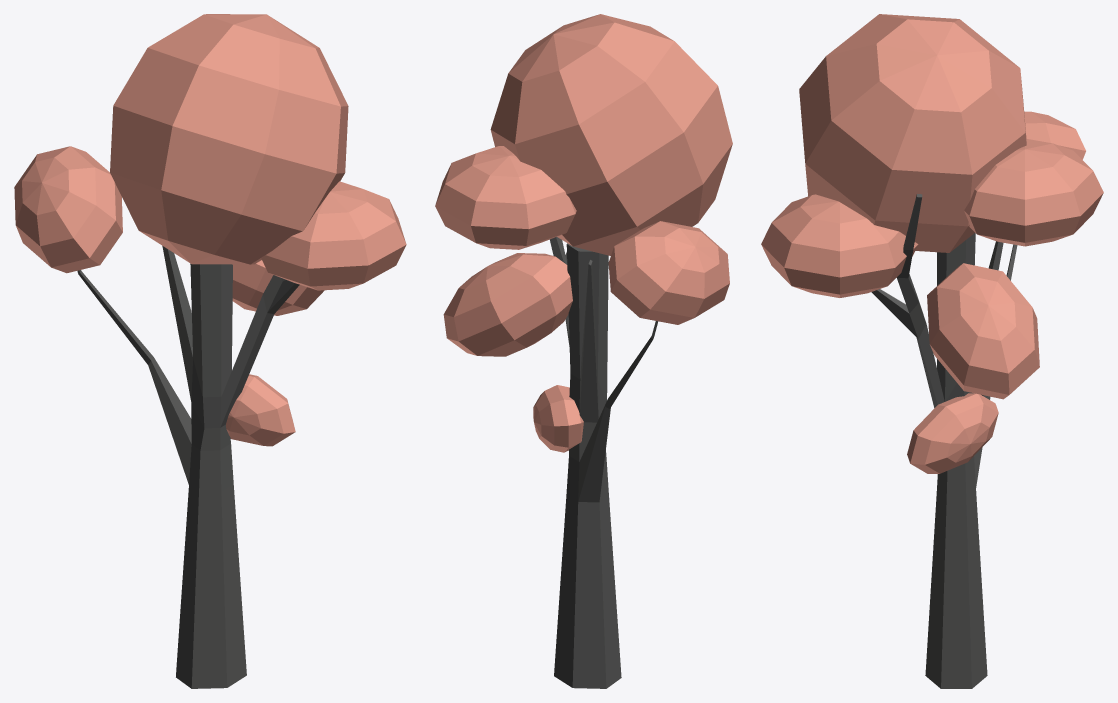
File: Tree3_pink.fbx
3 views of the same model, side by side, from view 1: azimuth 30°, elevation 25°; view 2: azimuth 150°, elevation 25°; view 3: azimuth 270°, elevation 25° (orthographic). The views are drawn at different scales.
Visible parts, largest first — view 1: Sphere, Cylinder.004, Sphere.005, Sphere.001, Sphere.004, Sphere.002; view 2: Sphere, Cylinder.004, Sphere.003, Sphere.002, Sphere.005, Sphere.004; view 3: Sphere, Cylinder.004, Sphere.002, Sphere.001, Sphere.003, Sphere.004, Sphere.005.
Boxes of the visible parts, box(x1,y1,x2,y2) form: Sphere: box(110, 14, 348, 264); Cylinder.004: box(77, 246, 299, 688); Sphere.005: box(14, 146, 122, 273); Sphere.001: box(261, 181, 406, 290); Sphere.004: box(226, 374, 295, 446); Sphere.002: box(232, 260, 324, 315); Sphere: box(490, 14, 732, 255); Cylinder.004: box(549, 237, 658, 688); Sphere.003: box(435, 146, 576, 249); Sphere.002: box(443, 253, 572, 356); Sphere.005: box(608, 221, 729, 324); Sphere.004: box(533, 385, 583, 452); Sphere: box(799, 14, 1026, 252); Cylinder.004: box(871, 194, 1017, 688); Sphere.002: box(927, 263, 1039, 399); Sphere.001: box(761, 194, 918, 297); Sphere.003: box(964, 138, 1103, 246); Sphere.004: box(907, 393, 998, 473); Sphere.005: box(1024, 111, 1085, 159).
Bounding box in the file's own units: 1848 × 4117 × 1953.
